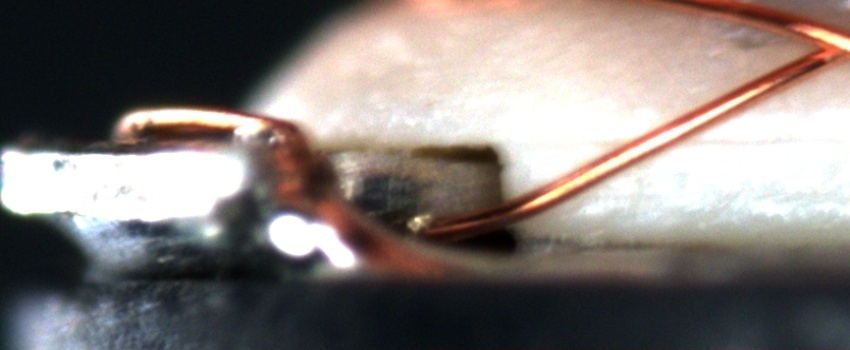CL: (778, 15, 848, 77)
DL: (534, 113, 849, 169)
TE: (107, 105, 315, 229)
